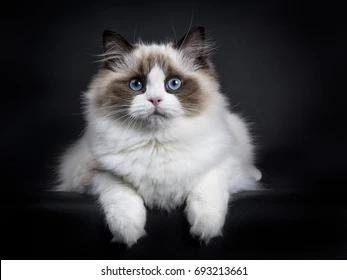ragdoll: (89, 17, 224, 147)
